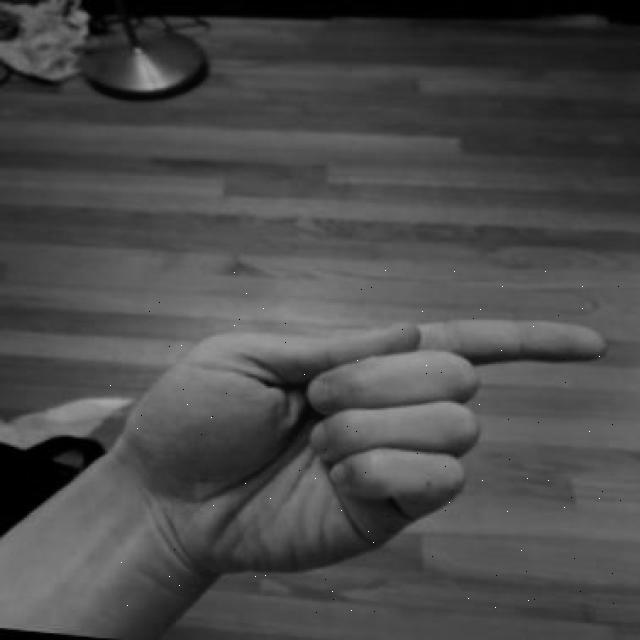G: (99, 270, 621, 614)
